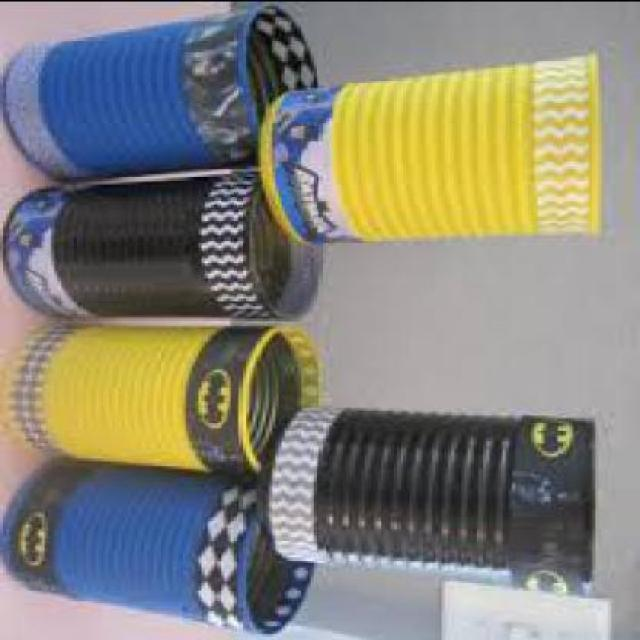METAL: (263, 48, 602, 242), (263, 404, 599, 588), (6, 455, 323, 630), (6, 2, 320, 178), (6, 168, 326, 315), (12, 322, 323, 470)
